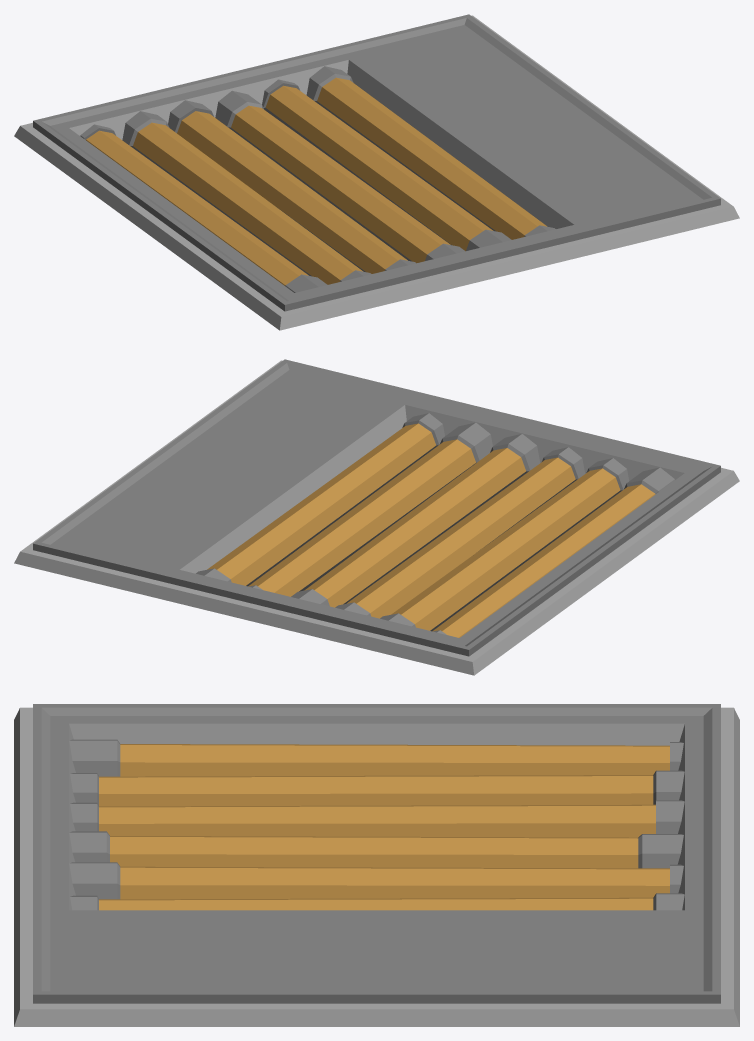
Rendered from rooftile_sides_pipes.005_lev3.glb.
The picture shows the model from 3 angles, top to bottom: view 1: azimuth 30°, elevation 25°; view 2: azimuth 150°, elevation 25°; view 3: azimuth 270°, elevation 25°; orthographic projection. The views are drawn at different scales.
Parts seen in each view (by area): view 1: rooftile_sides_pipes.005_lev3; view 2: rooftile_sides_pipes.005_lev3; view 3: rooftile_sides_pipes.005_lev3.
Boxes of the visible parts, left/top/right/bottom form: rooftile_sides_pipes.005_lev3: left=14, top=14, right=739, bottom=330; rooftile_sides_pipes.005_lev3: left=14, top=359, right=739, bottom=675; rooftile_sides_pipes.005_lev3: left=14, top=704, right=739, bottom=1026.
Bounding box in the file's own units: 2 × 0.1133 × 2.
